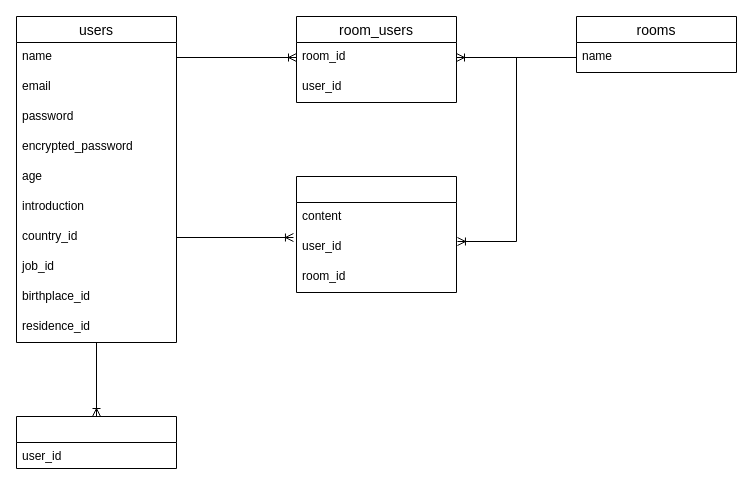
This 753x485 diagram has some shape labels left out. The shapes that lost their labels are listed below. From the top down, each one's box as (x1, y1, x2, y2) in pixels, then its label:
(296, 176, 456, 292): talks
(16, 416, 176, 468): likes
